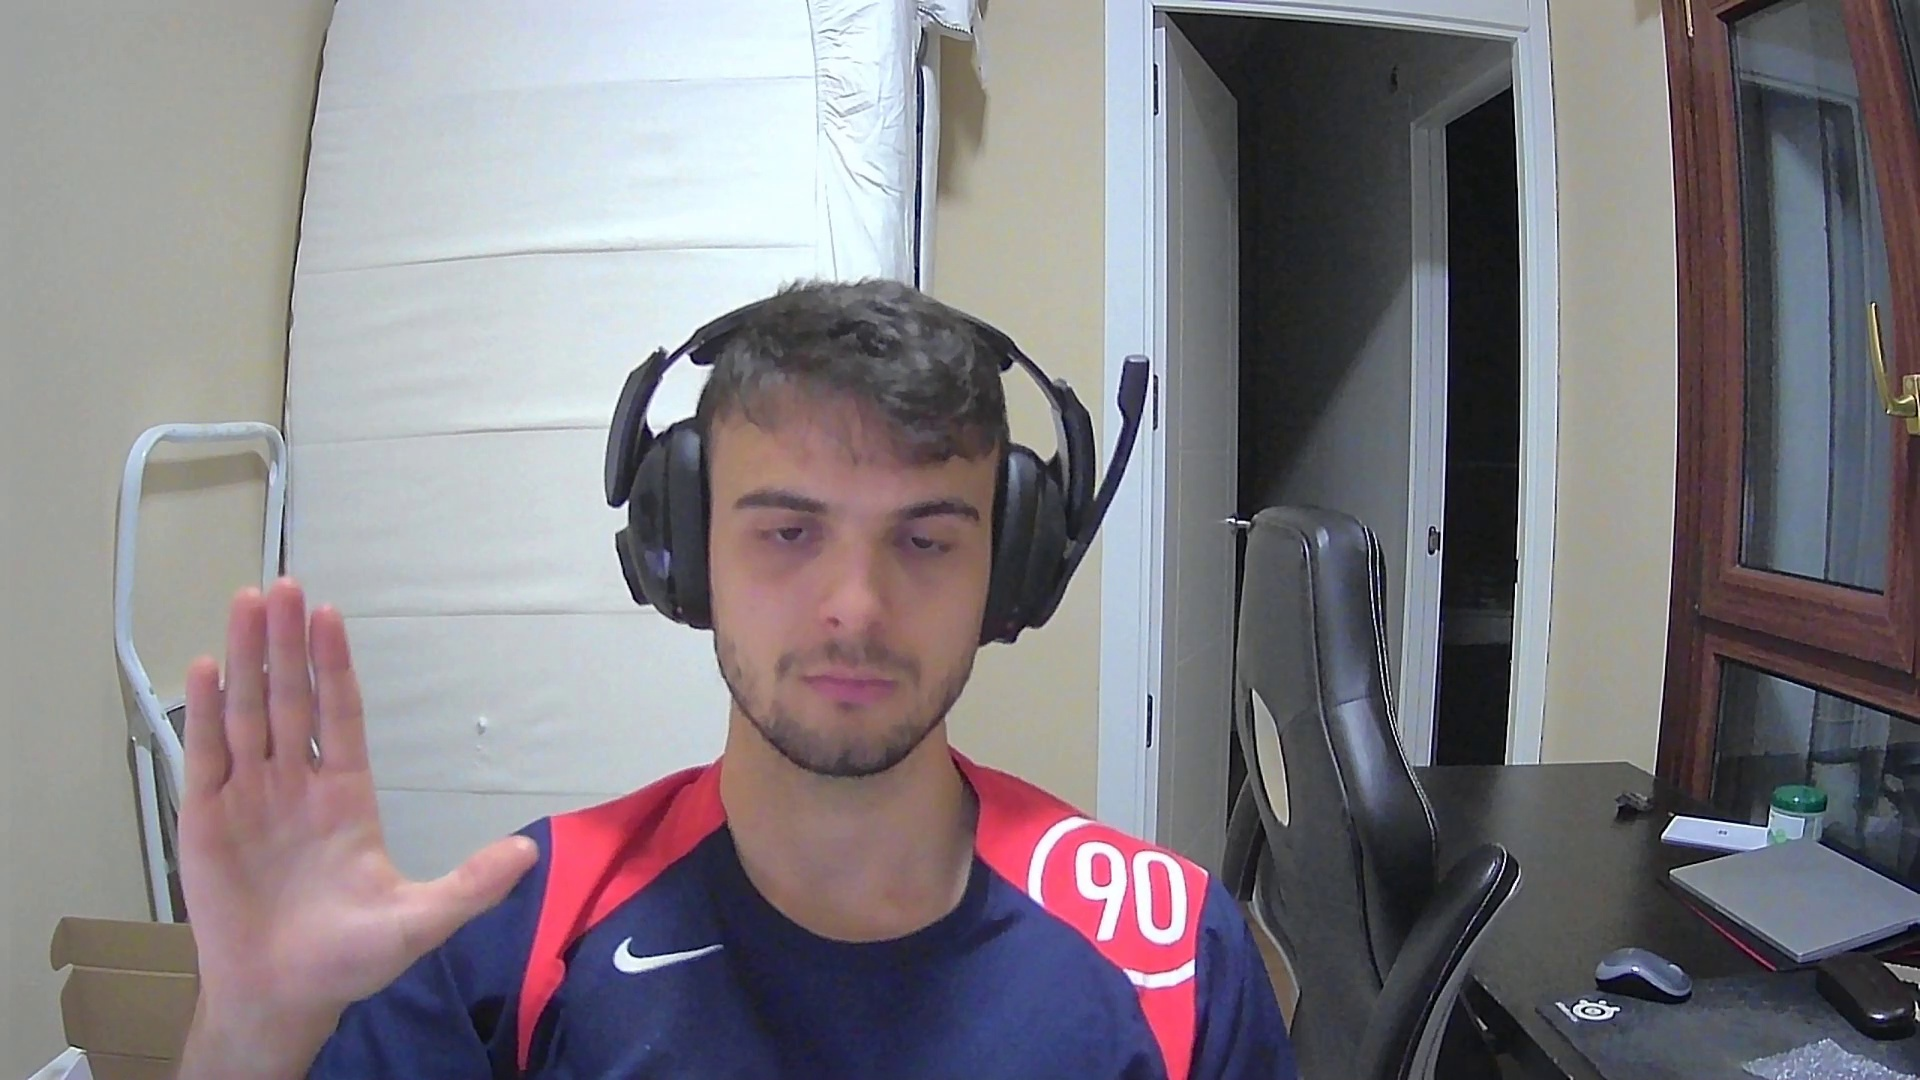Palm: (169, 575, 541, 1017)
